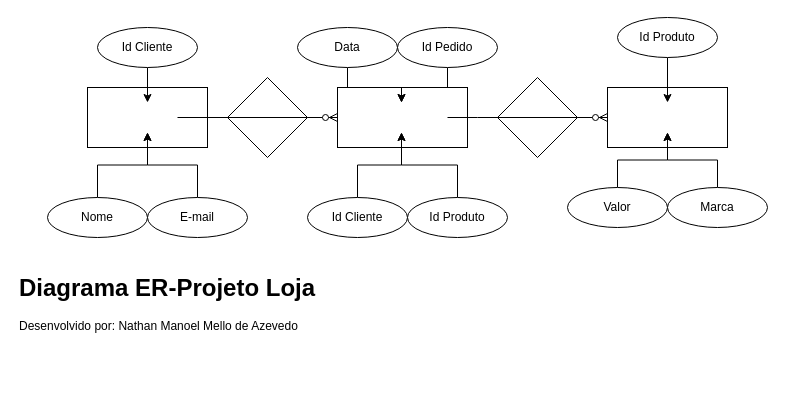
This 785x408 diagram has some shape labels left out. Each missing label, with the centre of its shape:
Clientes: the point at 147,117
Pedidos: the point at 402,117
Pr odutos: the point at 667,117
